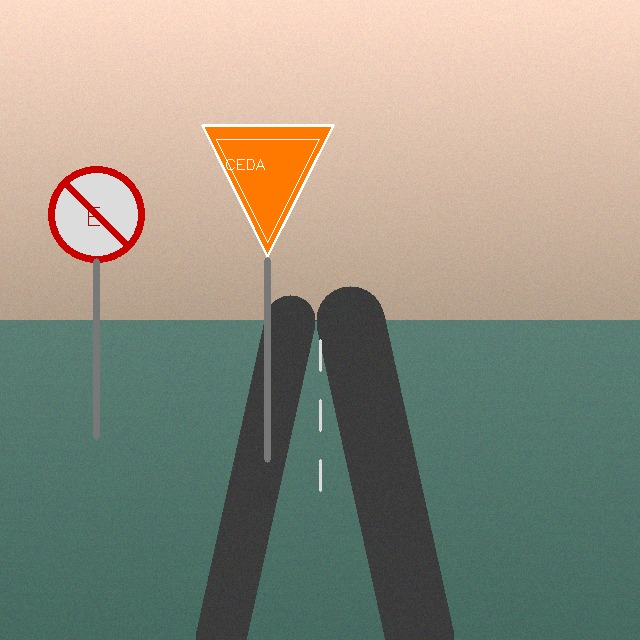ceda_el_paso: (198, 121, 337, 260)
no_estacionar: (49, 167, 143, 261)
